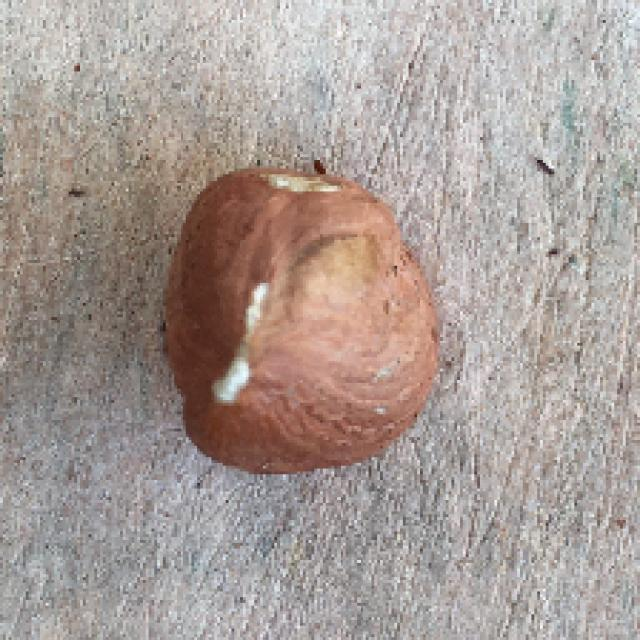hazelnut: (166, 147, 440, 485)
